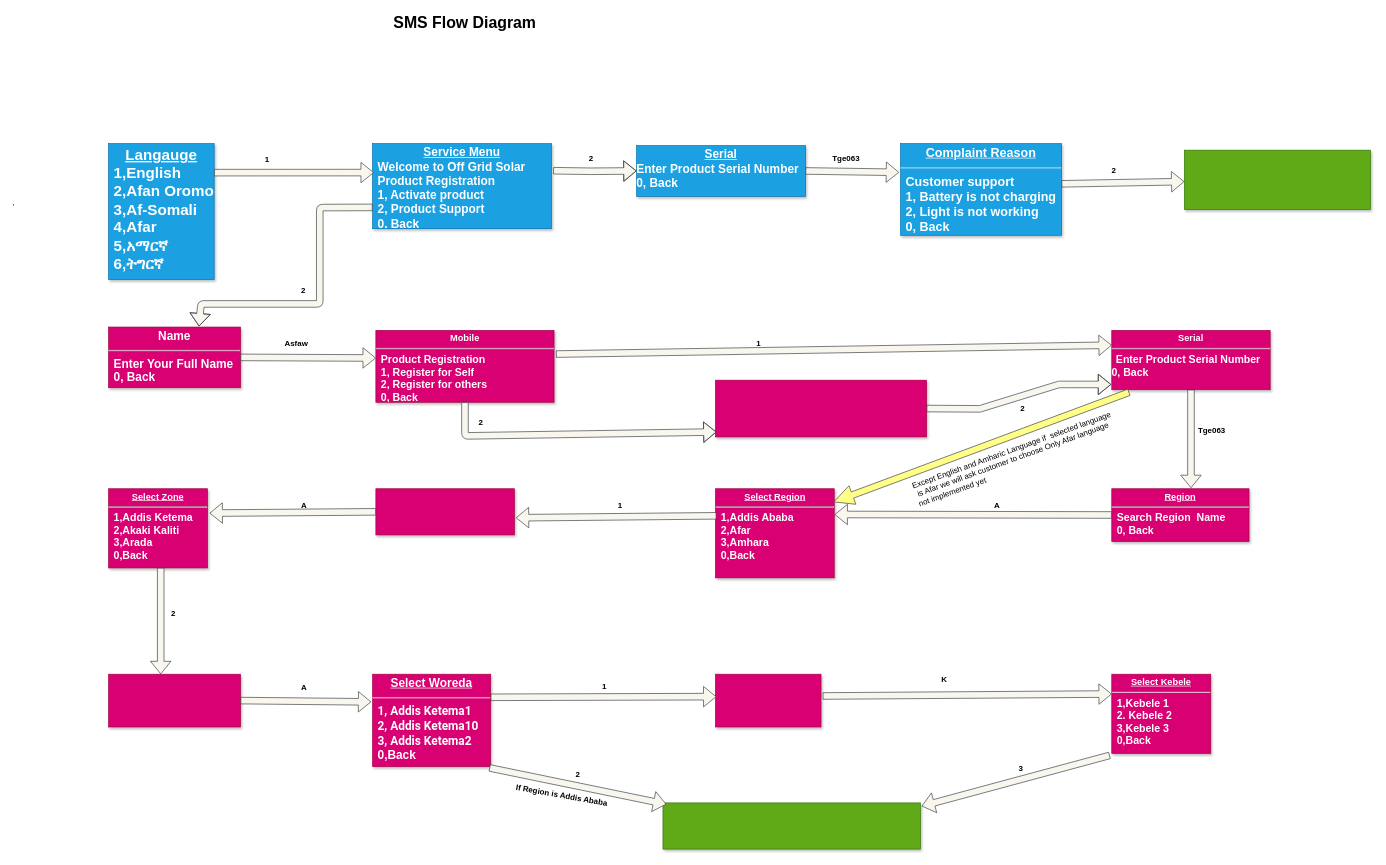
Image size: 1386x865. Some labels were removed from this diagram. Here are the shapes that lost their labels. From the top down, the centre of each, then its label:
At point 1277,180: "Product complaint has been registered with ticket number:2345678912".
At point 821,409: "Register for Other 'Please input mobile number (09****) 0, Back".
At point 445,512: "Zone Search Zone Name 0,Back".
At point 175,701: "Woreda Search Woreda 0,Back".
At point 768,701: "Kebele Search Kebele 0,Back".
At point 792,827: "Registration complete successfully, For product support input 1.".
